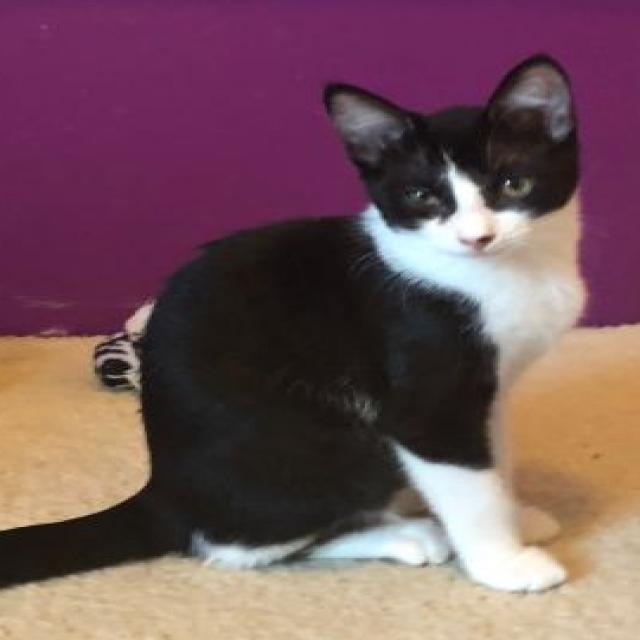Tuxedo: (0, 48, 595, 606)
